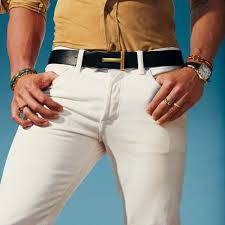F_belt: (42, 42, 192, 79)
